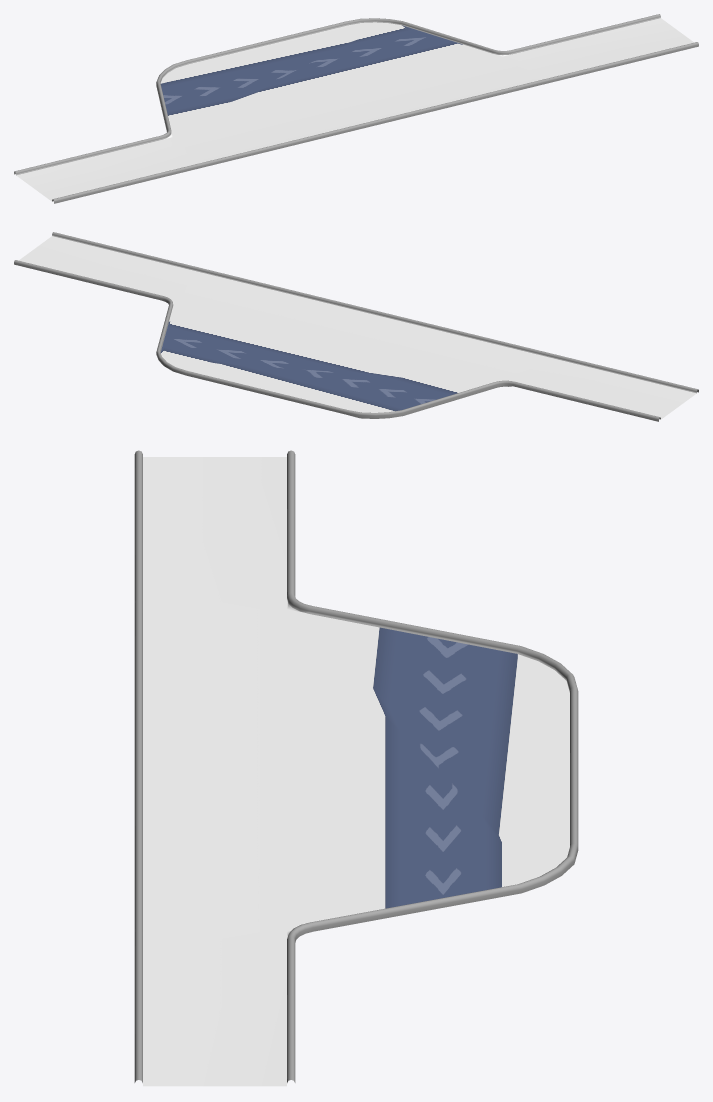
Rendered from Road2.fbx.
3 views of the same model, one above another, from view 1: azimuth 30°, elevation 25°; view 2: azimuth 150°, elevation 25°; view 3: azimuth 270°, elevation 25° (orthographic). The views are drawn at different scales.
Parts seen in each view (by area): view 1: Road1; view 2: Road1; view 3: Road1.
Boxes of the visible parts, bbox=[...] form: Road1: bbox=[14, 14, 698, 203]; Road1: bbox=[14, 232, 698, 421]; Road1: bbox=[134, 450, 578, 1086].
Bounding box in the file's own units: 16061 × 122 × 4782.
2 materials, 1 textured.
